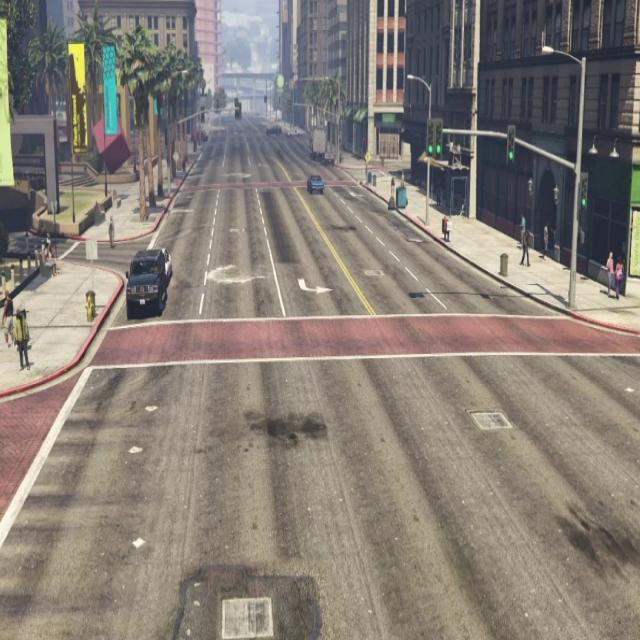Green-Signal: (421, 111, 448, 170), (504, 120, 518, 174), (578, 165, 591, 220)
